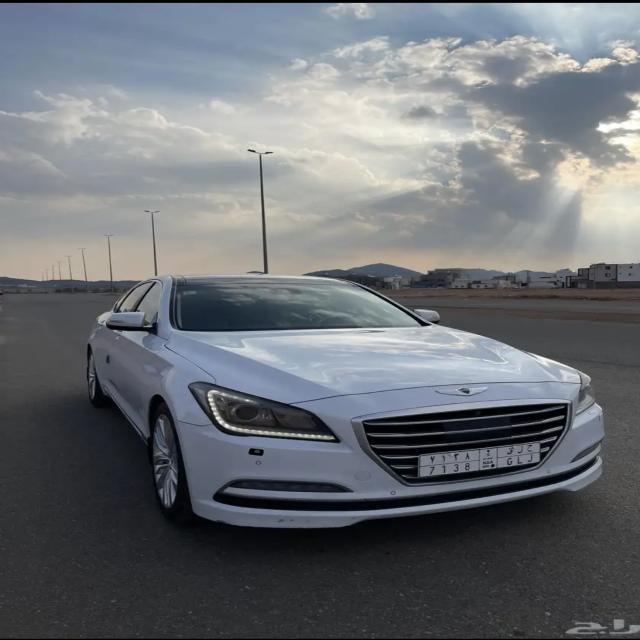license_plate: (418, 442, 540, 477)
